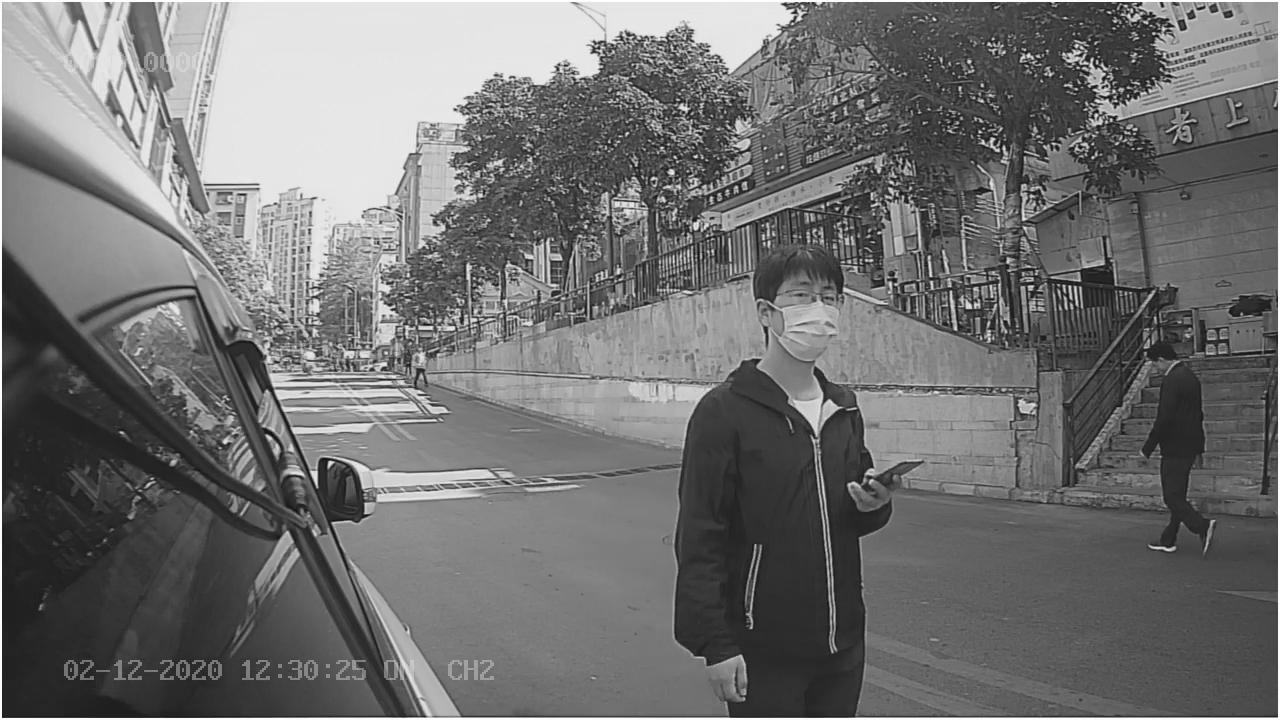person: (667, 234, 908, 699)
